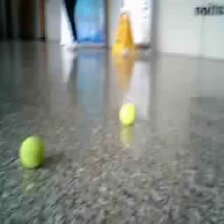tennis: (19, 135, 46, 168), (119, 103, 137, 126)
